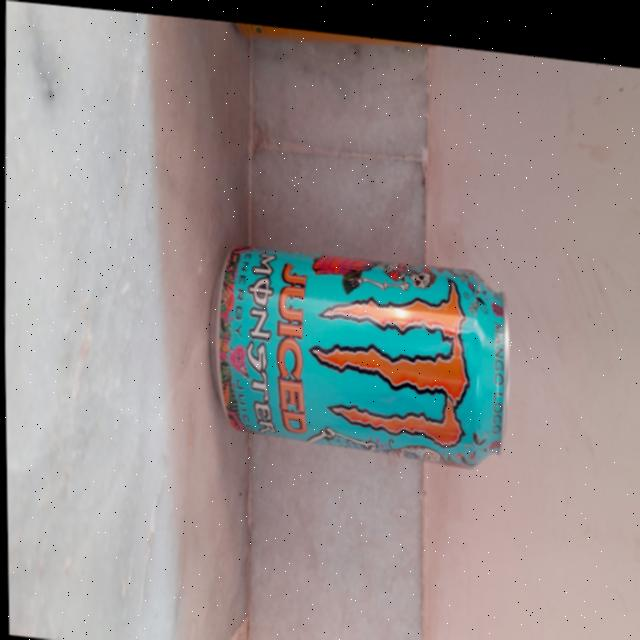Monster Mango Loco: (204, 226, 518, 460)
Redbull Yellow Edition: (220, 17, 460, 72)
